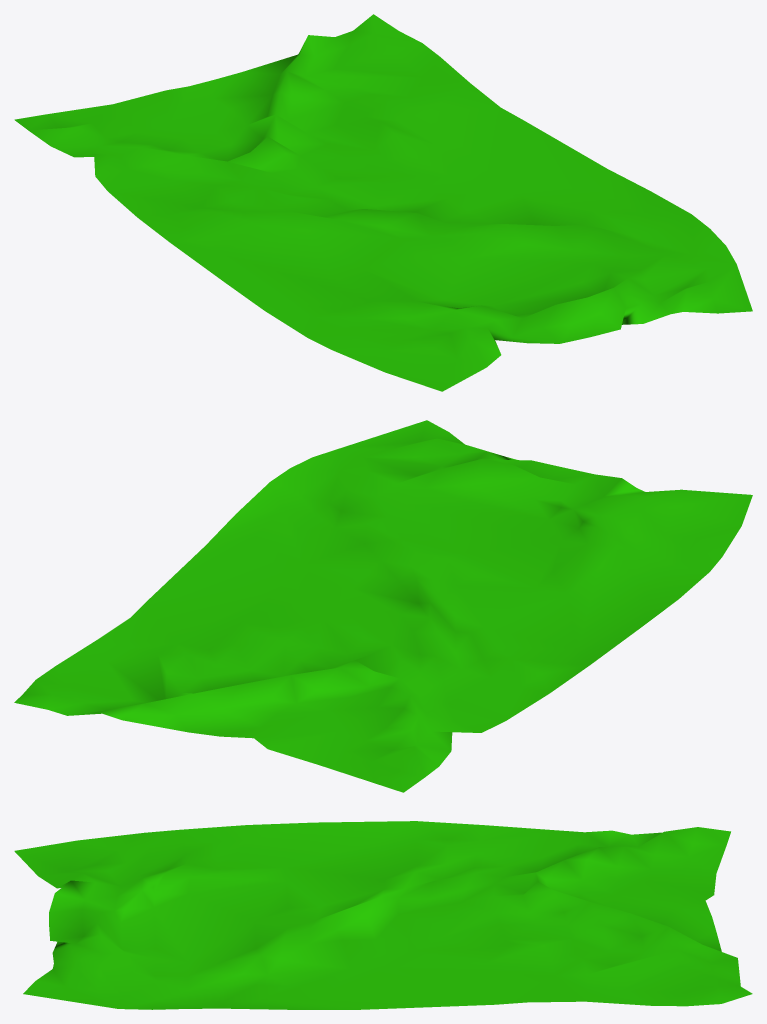
File: SM_Sterilization_Container_Cloth_3.FBX
3 renders of one model, top to bottom at view 1: azimuth 30°, elevation 25°; view 2: azimuth 150°, elevation 25°; view 3: azimuth 270°, elevation 25°, orthographic. The views are drawn at different scales.
Visible parts, largest first — view 1: Sterilization_Container_Cloth_3; view 2: Sterilization_Container_Cloth_3; view 3: Sterilization_Container_Cloth_3.
Part boxes in pixels (x1,y1,x2,y2): Sterilization_Container_Cloth_3: [14, 14, 752, 391]; Sterilization_Container_Cloth_3: [14, 420, 752, 792]; Sterilization_Container_Cloth_3: [14, 821, 752, 1009].
Bounding box in the file's own units: 34.03 × 1.44 × 56.03.
